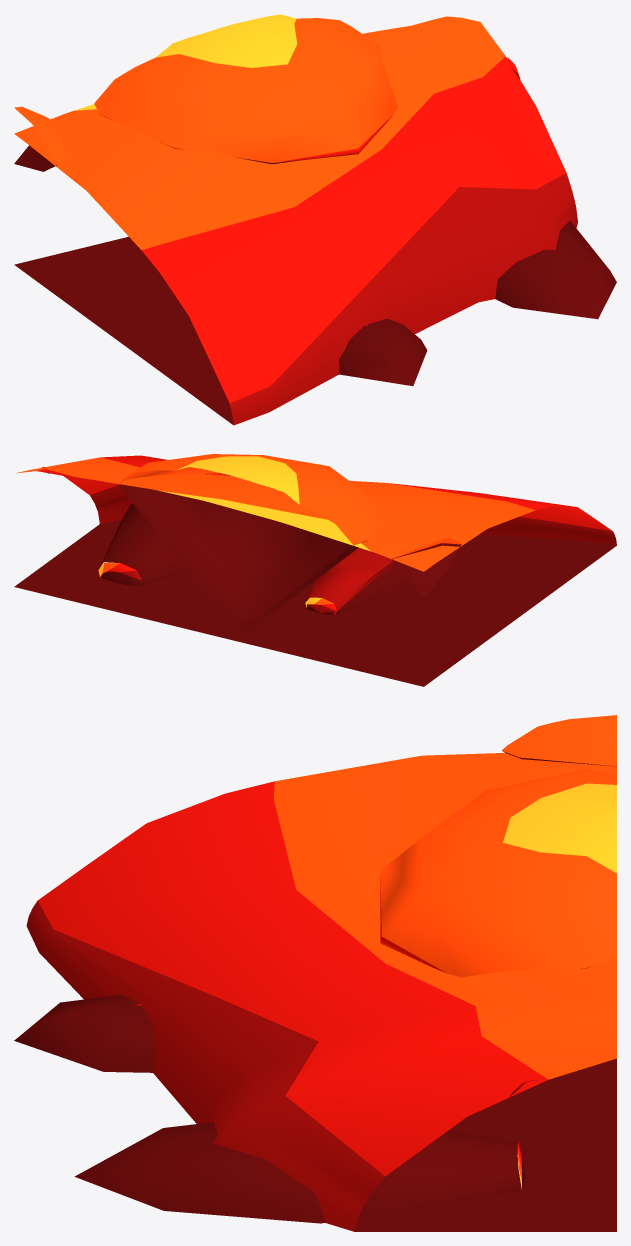
File: shot_dflame_29.glb
The picture shows the model from 3 angles, top to bottom: view 1: azimuth 30°, elevation 25°; view 2: azimuth 150°, elevation 25°; view 3: azimuth 270°, elevation 25°; orthographic projection. The views are drawn at different scales.
Parts seen in each view (by area): view 1: dflame_wall_bed_b29, dflame_wall_billow11_b29, dflame_wall_tongue3_b29, dflame_wall_tongue4_b29, dflame_wall_billow5_b29; view 2: dflame_wall_bed_b29, dflame_wall_billow11_b29, dflame_wall_tongue4_b29, dflame_wall_tongue3_b29, dflame_wall_billow5_b29; view 3: dflame_wall_bed_b29, dflame_wall_billow11_b29, dflame_wall_tongue3_b29, dflame_wall_tongue4_b29, dflame_wall_billow5_b29.
Part boxes in pixels (left/top/right/bottom): dflame_wall_bed_b29: left=14, top=16, right=577, bottom=425; dflame_wall_billow11_b29: left=94, top=14, right=397, bottom=164; dflame_wall_tongue3_b29: left=495, top=221, right=616, bottom=319; dflame_wall_tongue4_b29: left=339, top=318, right=427, bottom=386; dflame_wall_billow5_b29: left=14, top=106, right=65, bottom=171; dflame_wall_bed_b29: left=14, top=455, right=616, bottom=686; dflame_wall_billow11_b29: left=119, top=454, right=386, bottom=633; dflame_wall_tongue4_b29: left=305, top=535, right=479, bottom=615; dflame_wall_tongue3_b29: left=98, top=503, right=186, bottom=586; dflame_wall_billow5_b29: left=392, top=537, right=461, bottom=597; dflame_wall_bed_b29: left=26, top=753, right=616, bottom=1231; dflame_wall_billow11_b29: left=380, top=769, right=616, bottom=977; dflame_wall_tongue3_b29: left=74, top=1122, right=526, bottom=1223; dflame_wall_tongue4_b29: left=14, top=995, right=155, bottom=1072; dflame_wall_billow5_b29: left=502, top=715, right=616, bottom=766.
Size of the model in its own units: 12 by 4.6 by 10.
